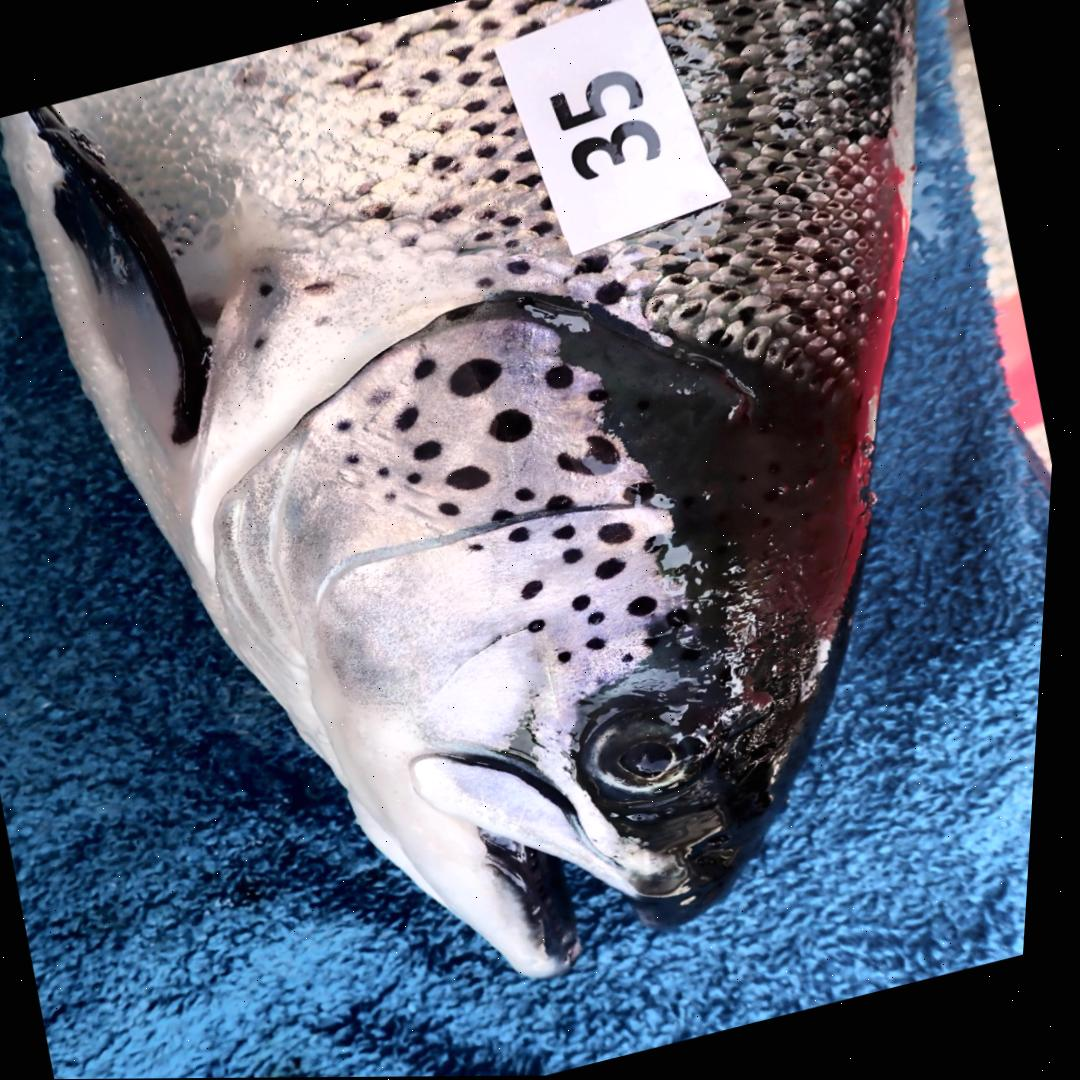spot: (561, 435, 625, 476), (454, 357, 507, 397), (494, 408, 537, 442), (629, 480, 679, 509), (450, 465, 496, 490), (648, 529, 680, 559), (603, 521, 640, 545), (367, 388, 400, 410), (550, 364, 578, 389), (602, 557, 632, 580), (417, 439, 448, 461), (634, 595, 664, 617), (399, 406, 424, 431), (449, 303, 482, 320), (417, 357, 440, 379), (552, 494, 579, 512), (528, 580, 551, 599), (514, 526, 537, 543), (558, 524, 582, 539), (578, 593, 599, 610), (569, 548, 590, 564), (497, 508, 521, 521), (520, 487, 541, 501), (591, 388, 612, 402), (444, 502, 466, 515), (592, 637, 614, 650), (535, 618, 553, 633), (594, 611, 612, 625), (562, 650, 580, 663), (349, 452, 365, 466), (340, 418, 357, 431), (411, 472, 429, 484), (382, 465, 395, 478), (473, 543, 491, 551), (629, 653, 641, 663), (390, 492, 400, 501)
